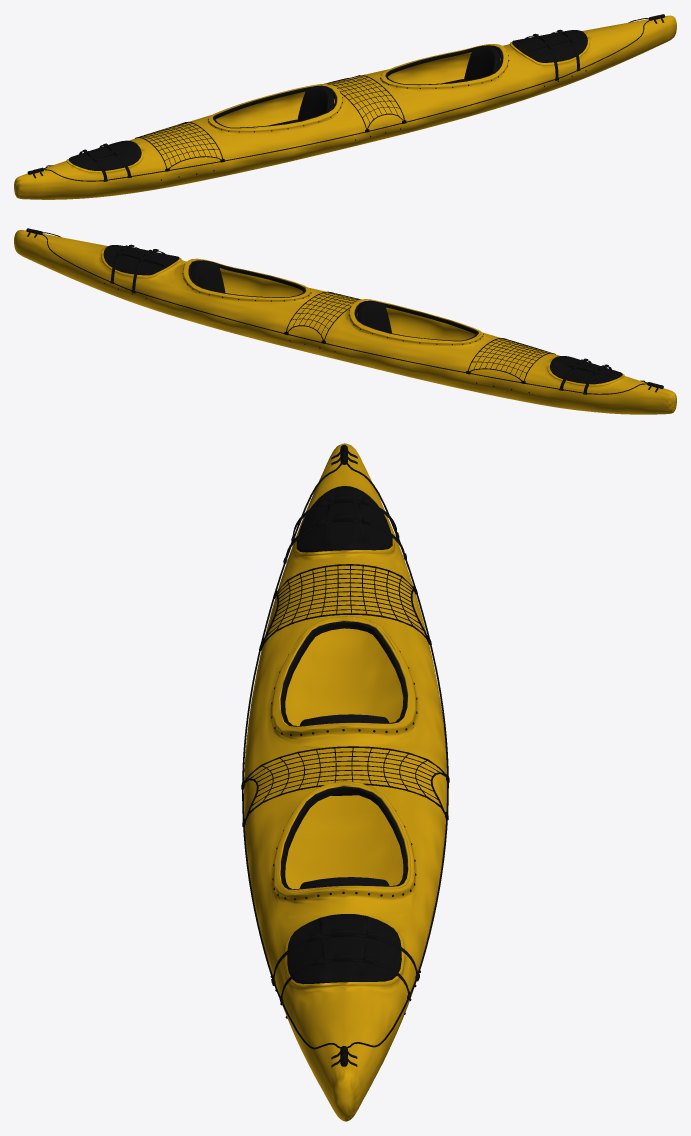
The model's file is 獨木舟.obj.
3 views of the same model, one above another, from view 1: azimuth 30°, elevation 25°; view 2: azimuth 150°, elevation 25°; view 3: azimuth 270°, elevation 25° (orthographic). The views are drawn at different scales.
Parts seen in each view (by area): view 1: kayak; view 2: kayak; view 3: kayak.
Part boxes in pixels (left/top/right/bottom): kayak: left=14, top=14, right=676, bottom=199; kayak: left=14, top=228, right=676, bottom=414; kayak: left=241, top=443, right=449, bottom=1121.
Bounding box in the file's own units: 204 × 16.2 × 27.82.
